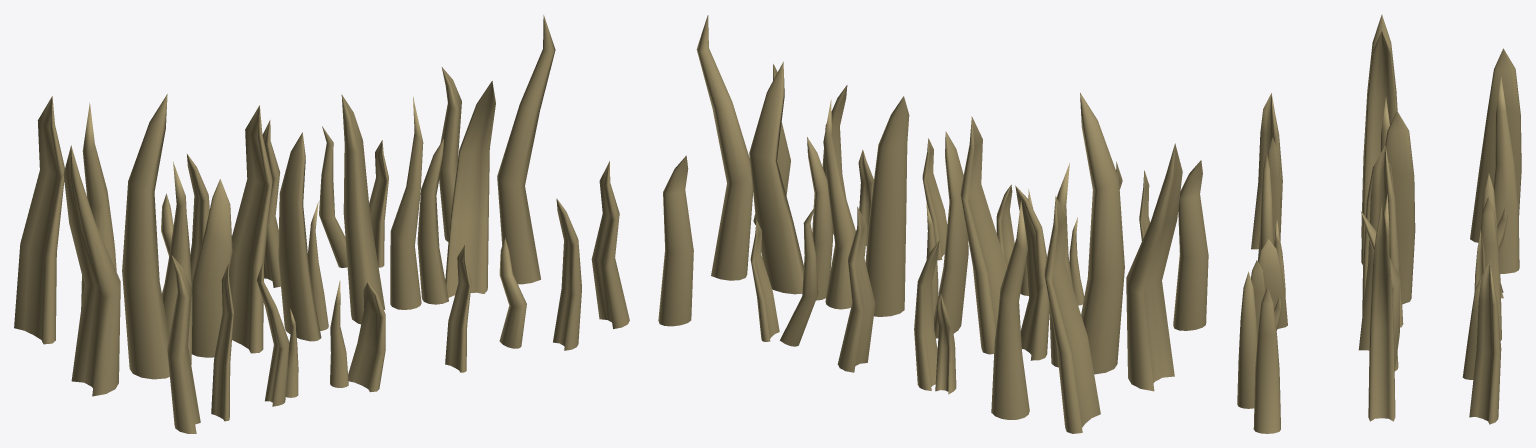
Rendered from SM_StalagBonesBasique.fbx.
3 renders of one model, left to right at view 1: azimuth 30°, elevation 25°; view 2: azimuth 150°, elevation 25°; view 3: azimuth 270°, elevation 25°, orthographic. The views are drawn at different scales.
Parts seen in each view (by area): view 1: StalgBoneBasique; view 2: StalgBoneBasique; view 3: StalgBoneBasique.
Part boxes in pixels (box(x1,y1,x2,y2)): StalgBoneBasique: box(14, 15, 629, 433); StalgBoneBasique: box(658, 15, 1208, 433); StalgBoneBasique: box(1237, 14, 1521, 433).
Size of the model in its own units: 661 by 354 by 379.
